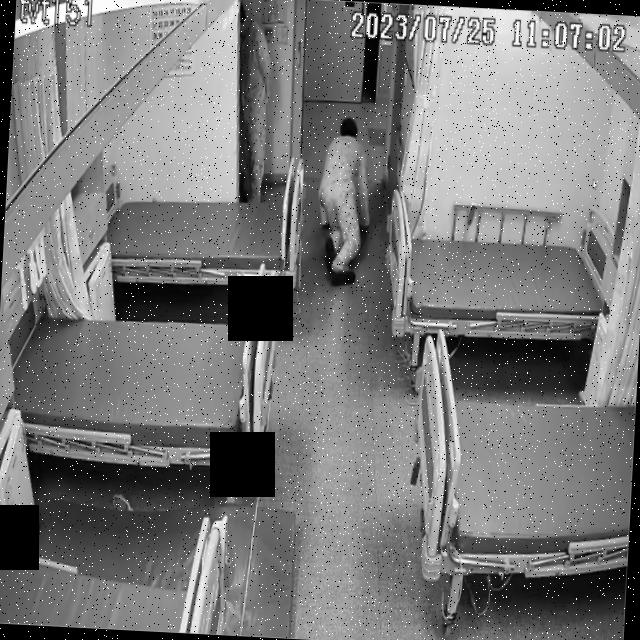bed: (406, 330, 640, 586), (7, 302, 278, 468), (381, 216, 621, 348), (107, 182, 301, 290)
fall: (312, 115, 372, 288)
patient: (314, 116, 376, 289), (233, 0, 277, 202)
